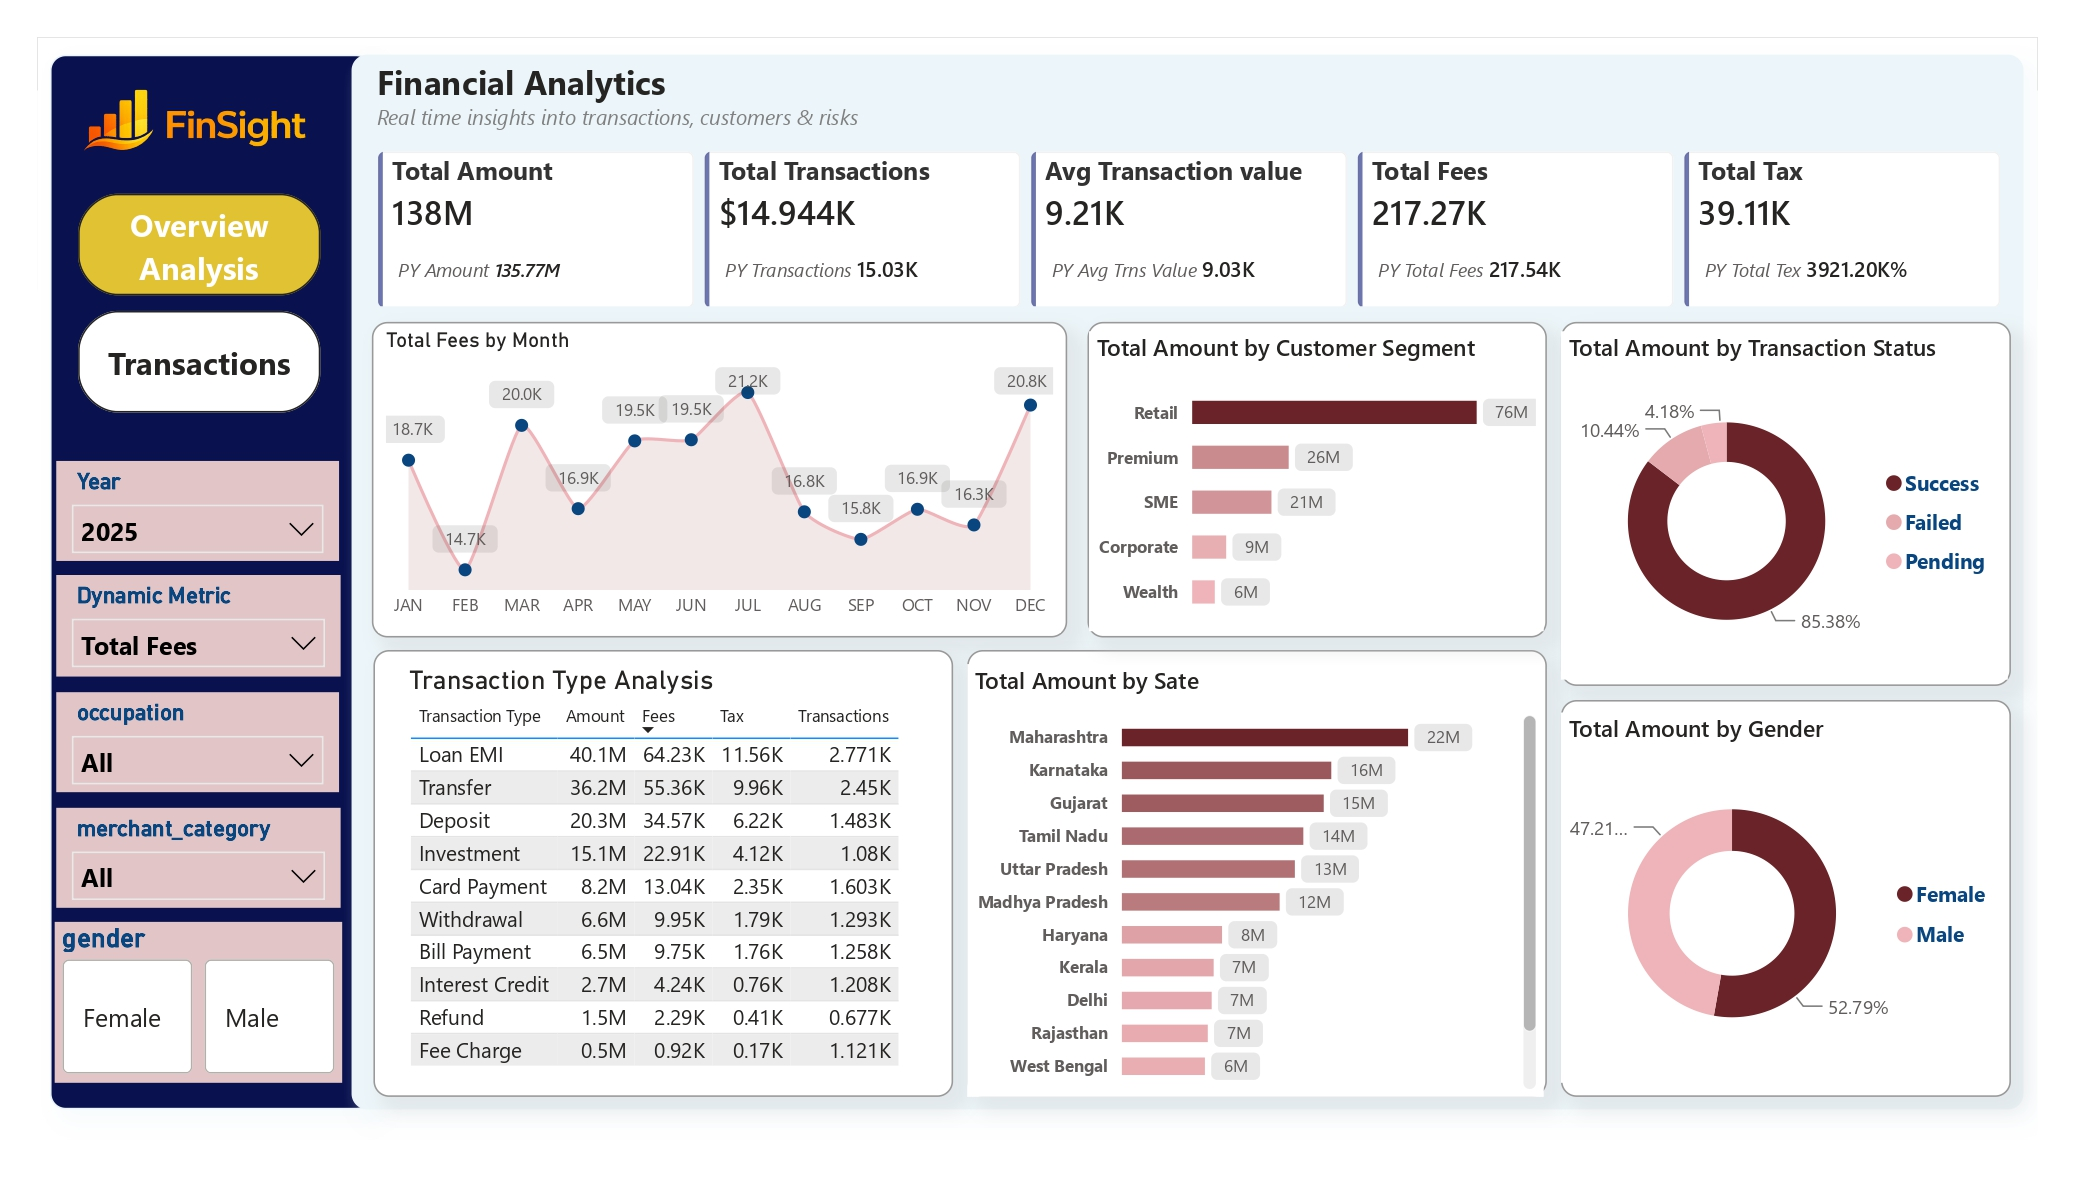

What the dashboard file says about the page in this screenshot:
{"tool":"powerbi","page":{"name":"Overview Analysis","canvas":[1280,720],"ordinal":0},"visuals":[{"type":"shape","box":[8.4,10.5,205.3,657.9],"z":0},{"type":"shape","box":[201.1,10.5,1069.5,657.9],"z":1},{"type":"shape","box":[213.7,182.1,371.6,202.1],"z":2},{"type":"shape","box":[214.7,391.6,371.6,268.4],"z":3},{"type":"shape","box":[594.7,391.6,371.6,268.4],"z":4},{"type":"shape","box":[594.7,182.1,371.6,202.1],"z":5},{"type":"shape","box":[974.7,182.1,288.4,232.6],"z":6},{"type":"shape","box":[974.7,424.2,288.4,235.8],"z":7},{"type":"textbox","box":[211.6,9.5,328.4,62.1],"z":8},{"type":"cardVisual","fields":{"Data":["finance_transactions.Total Amount","finance_transactions.Total Transactions","finance_transactions.Avg Transaction value","finance_transactions.Total Fees","finance_transactions.Total Tax"]},"box":[212.6,68.4,1048.4,109.5],"z":9}]}

Visuals, with their boxes on the page's 1280x720 design canvas (x1, y1, x2, y2). These are canvas units, not pixel positions in the 2075x1200 screenshot, which may show the page scaled, cropped or inside an application window:
shape: bbox=(8, 10, 214, 668)
shape: bbox=(201, 10, 1271, 668)
shape: bbox=(214, 182, 585, 384)
shape: bbox=(215, 392, 586, 660)
shape: bbox=(595, 392, 966, 660)
shape: bbox=(595, 182, 966, 384)
shape: bbox=(975, 182, 1263, 415)
shape: bbox=(975, 424, 1263, 660)
textbox: bbox=(212, 10, 540, 72)
cardVisual - finance_transactions.Total Amount x finance_transactions.Total Transactions: bbox=(213, 68, 1261, 178)
